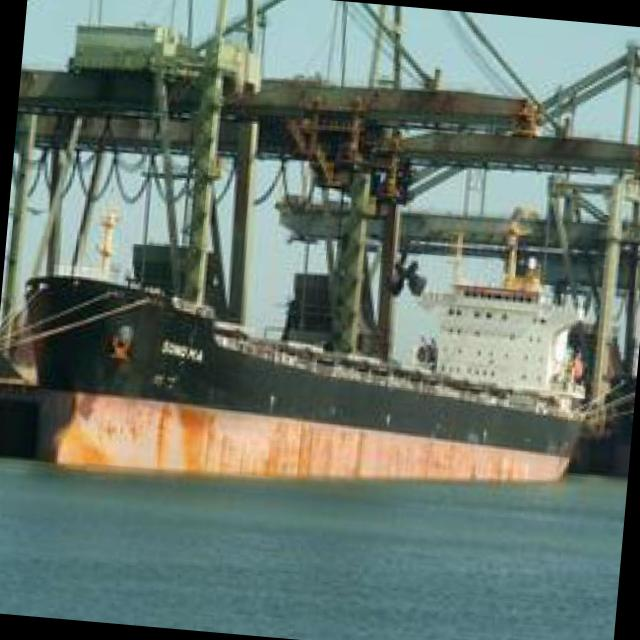boat: (6, 256, 599, 513)
